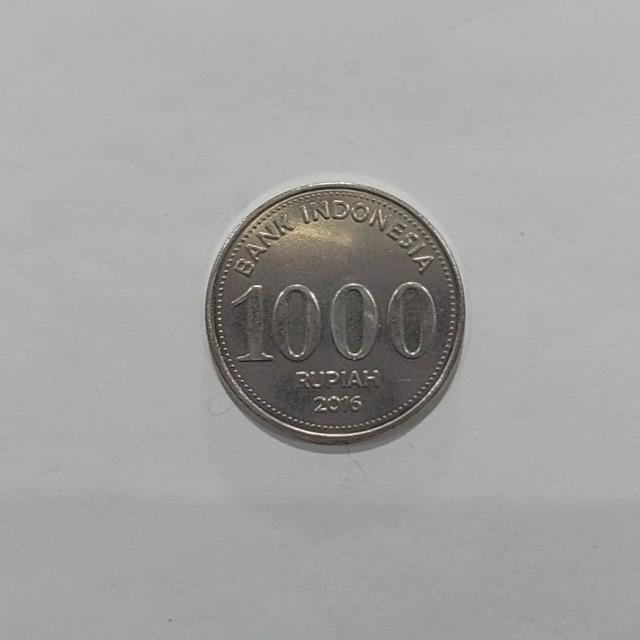Rp100: (202, 178, 467, 453)
